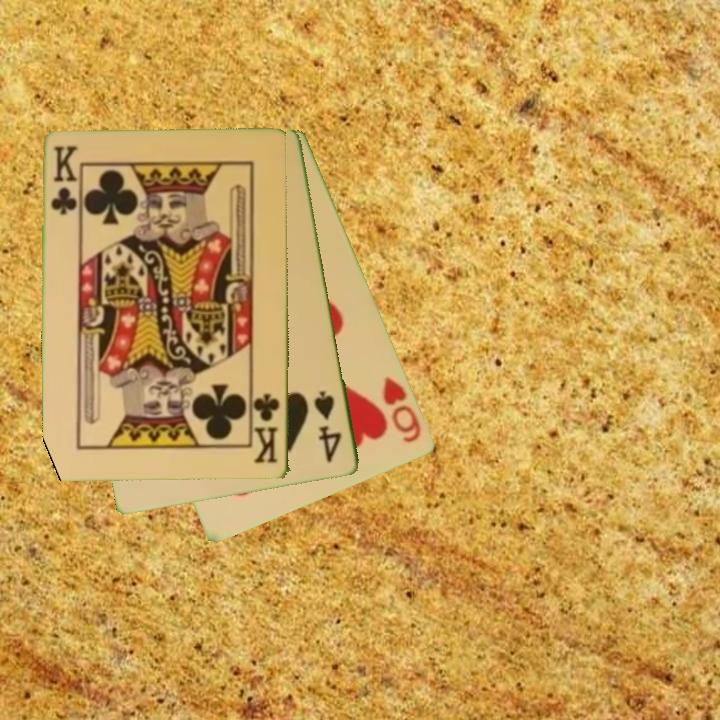4s: (311, 387, 345, 466)
6h: (380, 373, 425, 446)
Kc: (252, 391, 283, 467), (48, 142, 78, 219)
